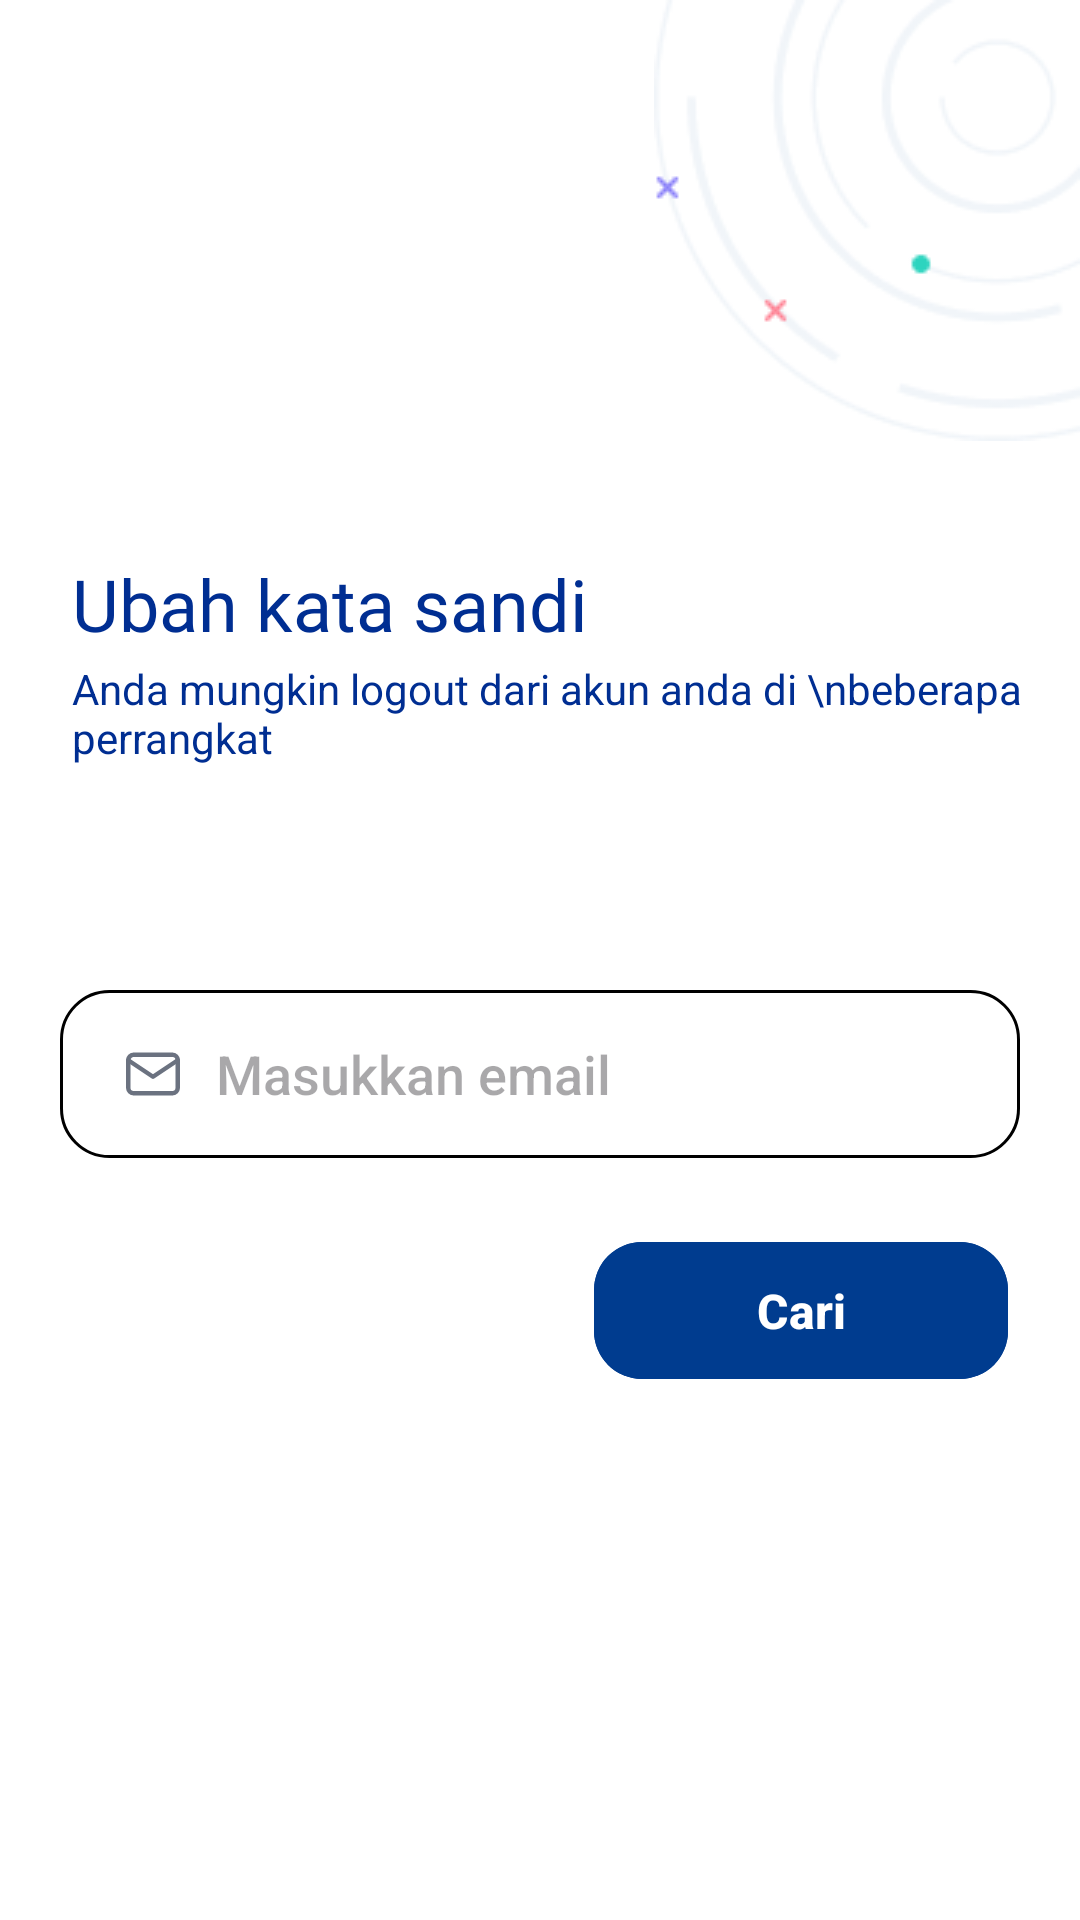

Icon bounding boxes for this 1080*1920 phone screenshot, format (x1, y1, x2, y2):
pattern: (656, 176, 931, 322)
